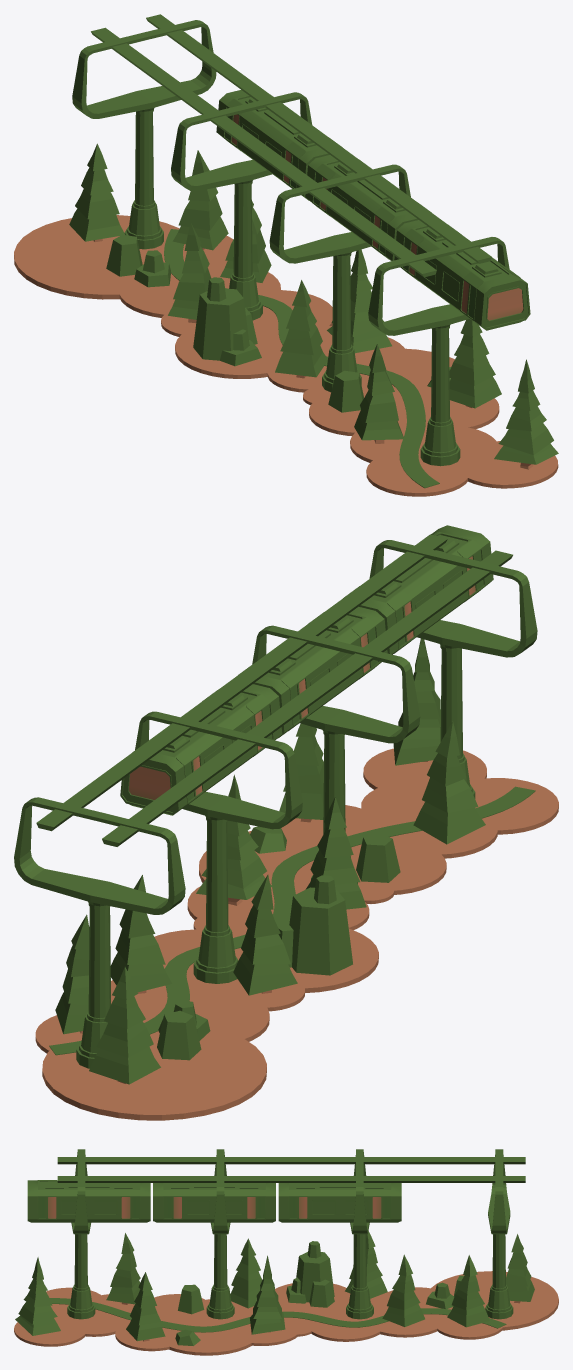
File: Low_Poly_Train_In_The_Air.glb
3 views of the same model, one above another, from view 1: azimuth 30°, elevation 25°; view 2: azimuth 150°, elevation 25°; view 3: azimuth 270°, elevation 25° (orthographic). The views are drawn at different scales.
Visible parts, largest first — view 1: Grass_0, Column Part 2_0, Train, Column_0, Trail_0, Trail 2_0, Stone_0, Road_0, Tree 1.001_0, Tree 3.001_0, Tree 3.003_0, Tree 3.002_0 (+7 smaller); view 2: Grass_0, Column Part 2_0, Train, Column_0, Trail_0, Trail 2_0, Stone_0, Road_0, Tree 2.001_0, Tree 3.003_0, Tree 2.002_0, Tree 2.003_0 (+8 smaller); view 3: Grass_0, Train, Column_0, Column Part 2_0, Trail 2_0, Trail_0, Stone_0, Road_0, Tree 1.001_0, Tree 2.003_0, Tree 2.004_0, Tree 1.002_0 (+8 smaller).
Part boxes in pixels (bbox=[...]): Grass_0: bbox=[14, 215, 558, 496]; Column Part 2_0: bbox=[72, 20, 509, 335]; Train: bbox=[216, 90, 530, 330]; Column_0: bbox=[124, 107, 460, 466]; Trail_0: bbox=[146, 14, 491, 263]; Trail 2_0: bbox=[91, 27, 436, 277]; Stone_0: bbox=[193, 277, 261, 366]; Road_0: bbox=[164, 229, 439, 488]; Tree 1.001_0: bbox=[494, 359, 558, 469]; Tree 3.001_0: bbox=[449, 319, 501, 408]; Tree 3.003_0: bbox=[69, 143, 125, 241]; Tree 3.002_0: bbox=[275, 280, 327, 378]; Grass_0: bbox=[35, 748, 558, 1120]; Column Part 2_0: bbox=[14, 540, 537, 914]; Train: bbox=[120, 525, 493, 815]; Column_0: bbox=[76, 644, 475, 1068]; Trail_0: bbox=[36, 534, 447, 831]; Trail 2_0: bbox=[102, 550, 512, 846]; Stone_0: bbox=[276, 875, 352, 975]; Road_0: bbox=[49, 786, 535, 1055]; Tree 2.001_0: bbox=[413, 721, 485, 844]; Tree 3.003_0: bbox=[89, 967, 160, 1084]; Tree 2.002_0: bbox=[233, 874, 297, 995]; Tree 2.003_0: bbox=[110, 875, 172, 993]; Grass_0: bbox=[14, 1271, 558, 1355]; Train: bbox=[27, 1180, 401, 1222]; Column_0: bbox=[67, 1234, 513, 1319]; Column Part 2_0: bbox=[71, 1149, 510, 1234]; Trail 2_0: bbox=[57, 1157, 525, 1164]; Trail_0: bbox=[57, 1176, 525, 1182]; Stone_0: bbox=[286, 1241, 334, 1307]; Road_0: bbox=[49, 1298, 506, 1332]; Tree 1.001_0: bbox=[15, 1257, 60, 1335]; Tree 2.003_0: bbox=[382, 1254, 424, 1326]; Tree 2.004_0: bbox=[447, 1255, 489, 1327]; Tree 1.002_0: bbox=[250, 1255, 285, 1334].
Size of the model in its own units: 9.14 by 7.85 by 25.83.
Materials: 1 (1 with a texture image).
